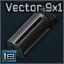KRISS Vector 9x19 flash hider: (0, 0, 64, 64)
